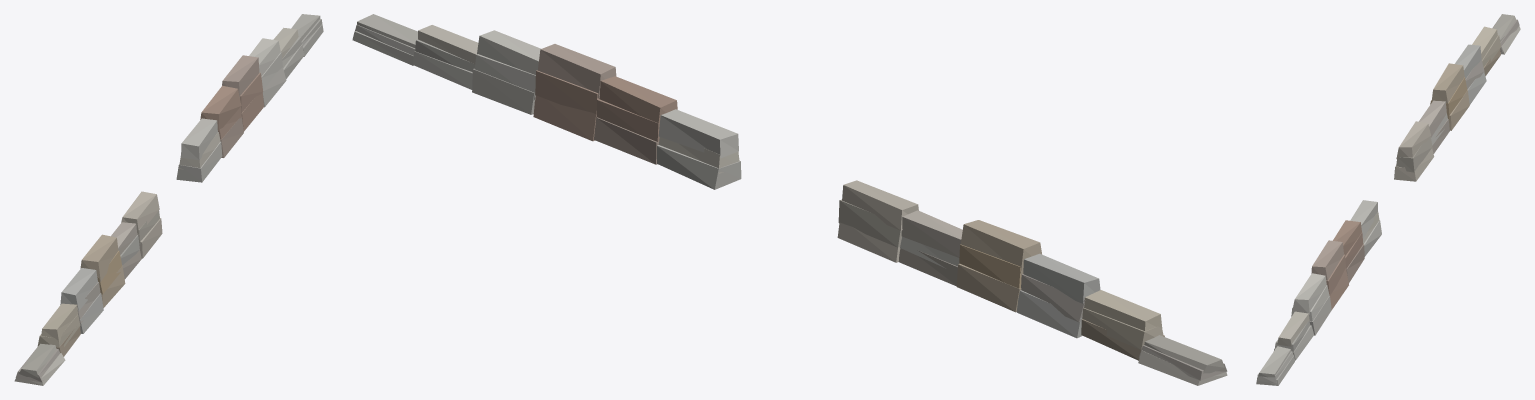
File: farm_4_18_mid.glb
3 views of the same model, side by side, from view 1: azimuth 90°, elevation 25°; view 2: azimuth 150°, elevation 25°; view 3: azimuth 270°, elevation 25° (orthographic). The views are drawn at different scales.
Visible parts, largest first — view 1: geometry_0; view 2: geometry_0; view 3: geometry_0.
Part boxes in pixels (<box>): geometry_0: <box>14,14,323,385</box>; geometry_0: <box>352,14,1227,385</box>; geometry_0: <box>1256,14,1520,385</box>.
Size of the model in its own units: 21.07 by 1.82 by 7.05.
